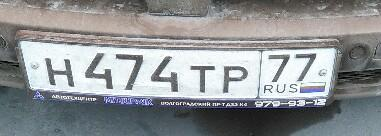license-plate: (23, 44, 335, 102)
